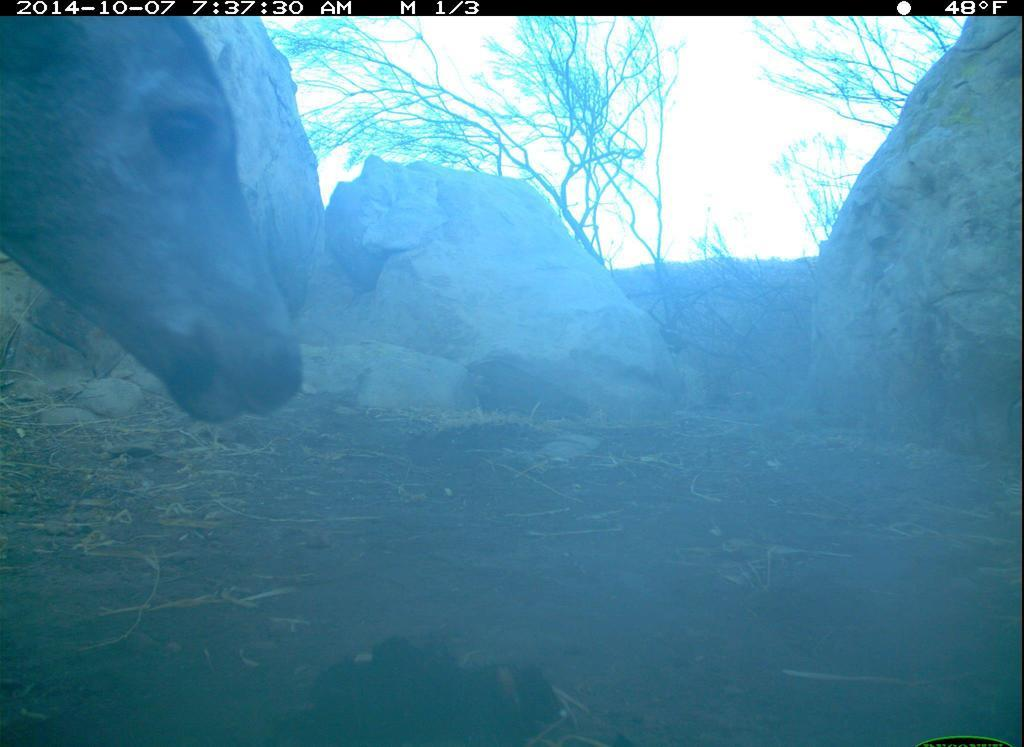deer: (1, 18, 333, 455)
